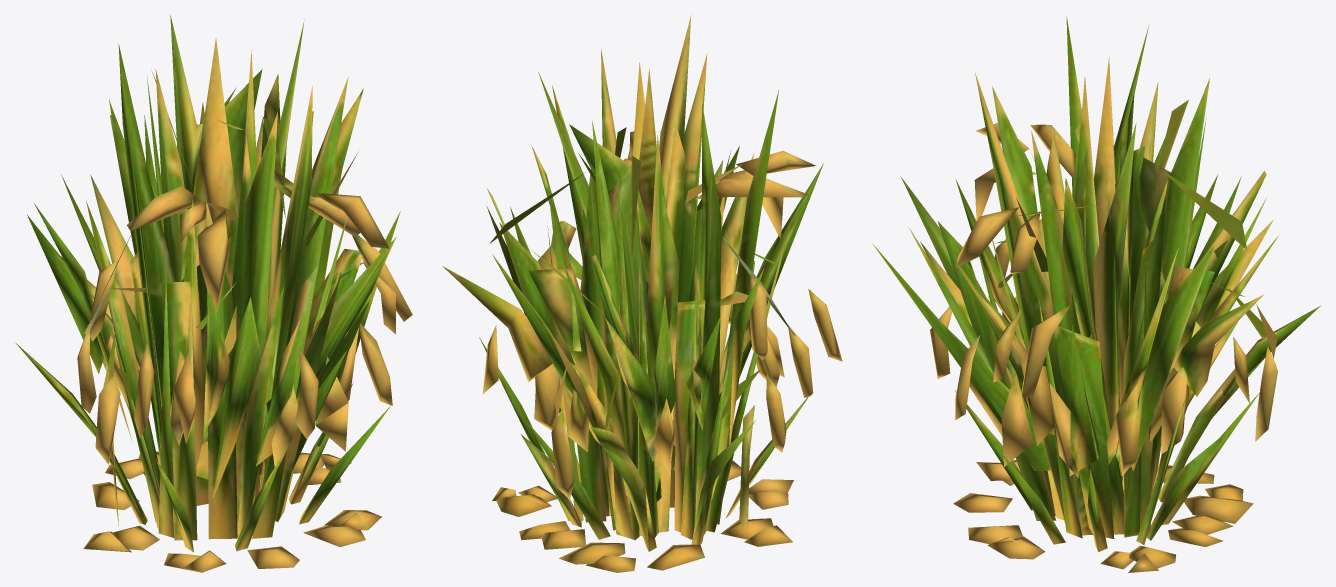
Rendered from crop-rice.glb.
The picture shows the model from 3 angles, left to right: view 1: azimuth 30°, elevation 25°; view 2: azimuth 150°, elevation 25°; view 3: azimuth 270°, elevation 25°; orthographic projection. The views are drawn at different scales.
Visible parts, largest first — view 1: fruit, plant; view 2: fruit, plant; view 3: fruit, plant.
Part boxes in pixels (x1,y1,x2,y2): fruit: (15,16,412,572); plant: (16,15,400,552); fruit: (442,15,842,572); plant: (479,69,823,551); fruit: (872,14,1318,572); plant: (901,24,1320,543).
Size of the model in its own units: 0.4926 by 0.7 by 0.6226.
Materials: 1 (1 with a texture image).
